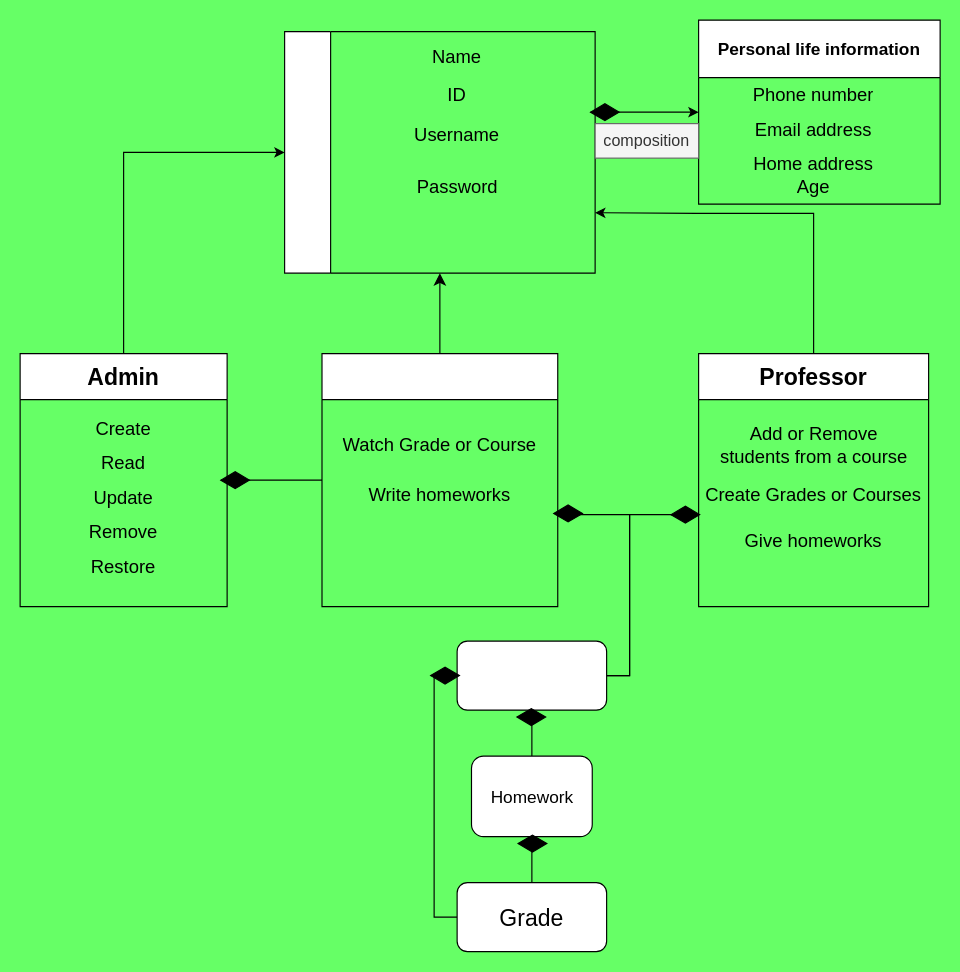
The diagram is 960 pixels wide and 972 high, and some of its shapes have lost their labels. Each missing label, with the box of its shape:
Course: (456, 640, 607, 710)
Person: (283, 30, 595, 273)
Student: (321, 352, 558, 607)
